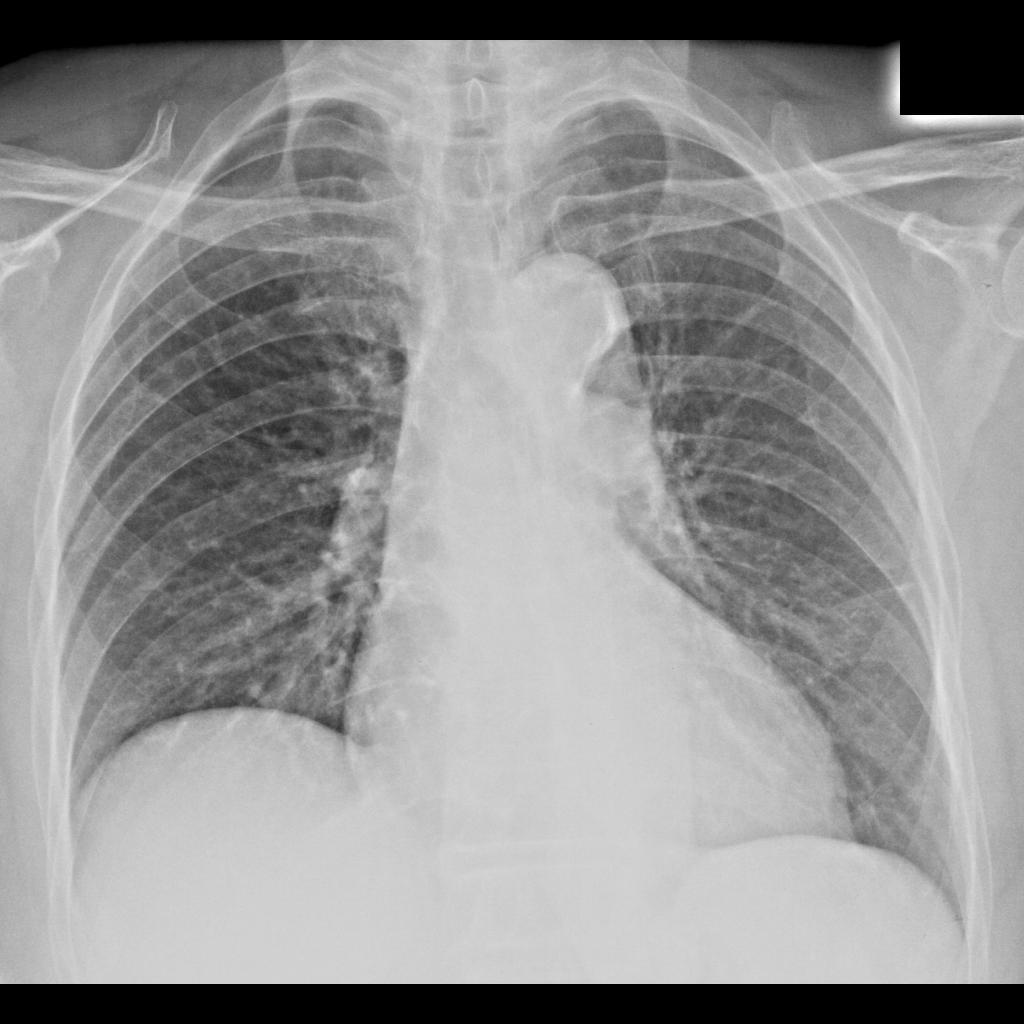Nodule: (797, 592, 880, 676)
